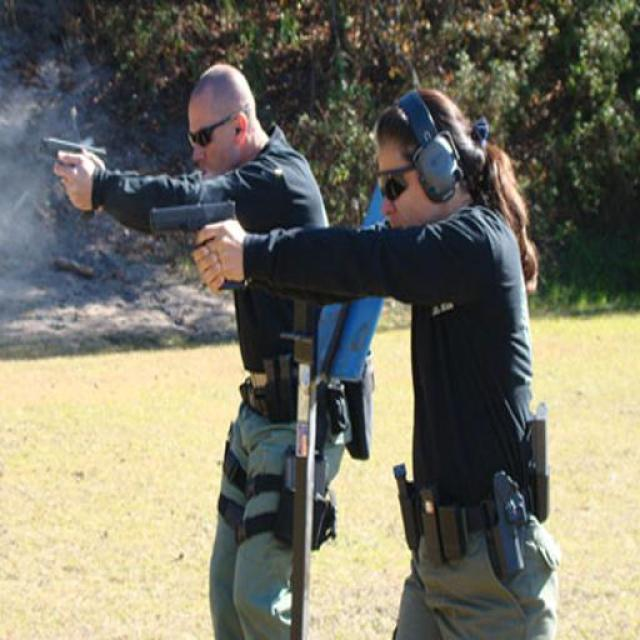pistol: (146, 200, 248, 295), (38, 129, 106, 220)
